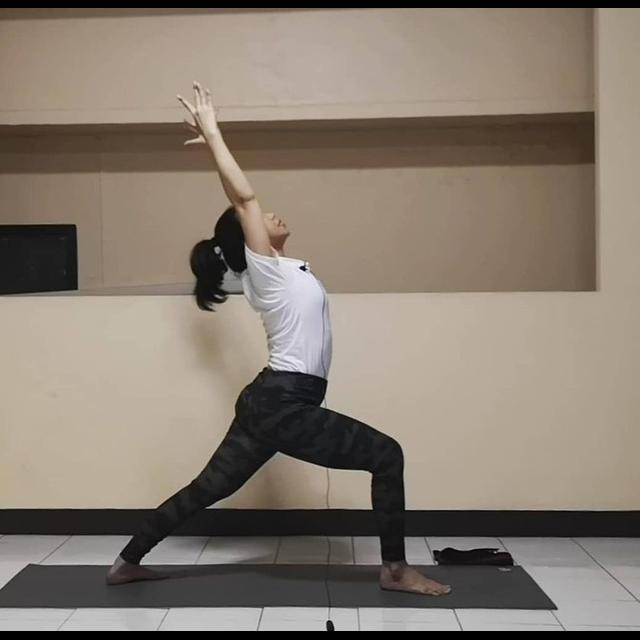Warrior_I: (100, 77, 457, 601)
